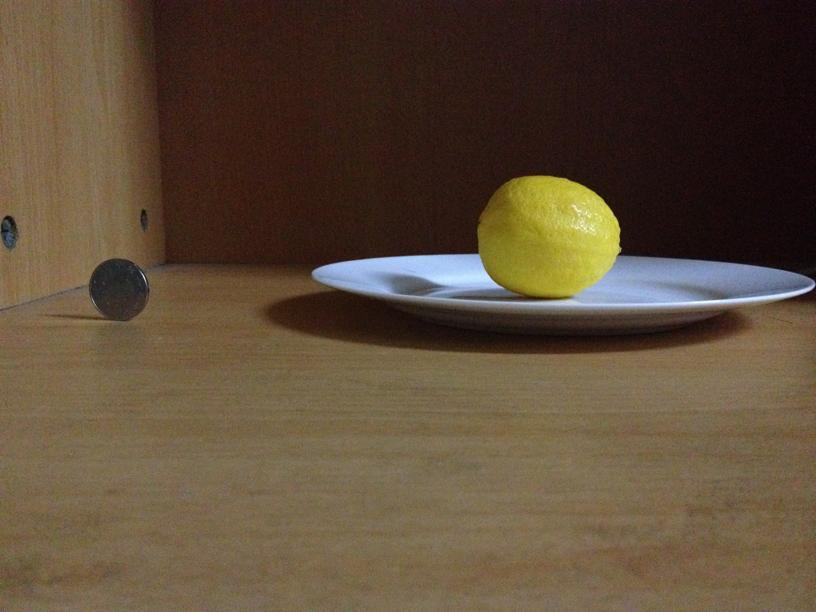coin: (90, 257, 147, 322)
lemon: (476, 172, 621, 294)
